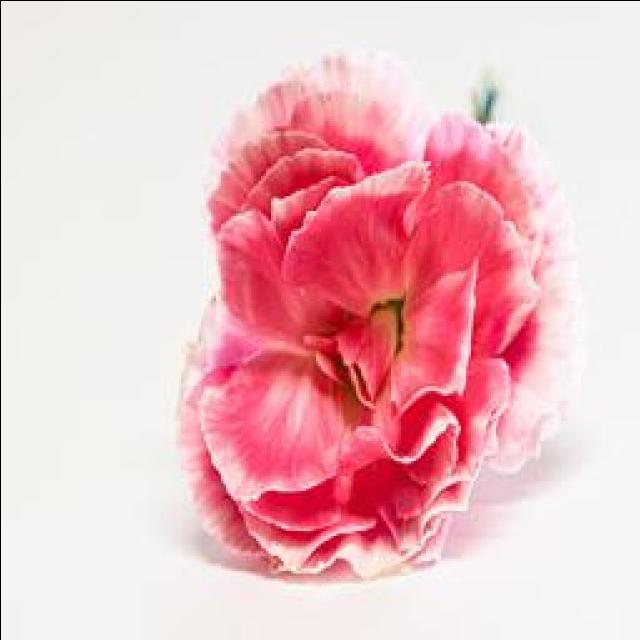carnation: (156, 59, 578, 598)
